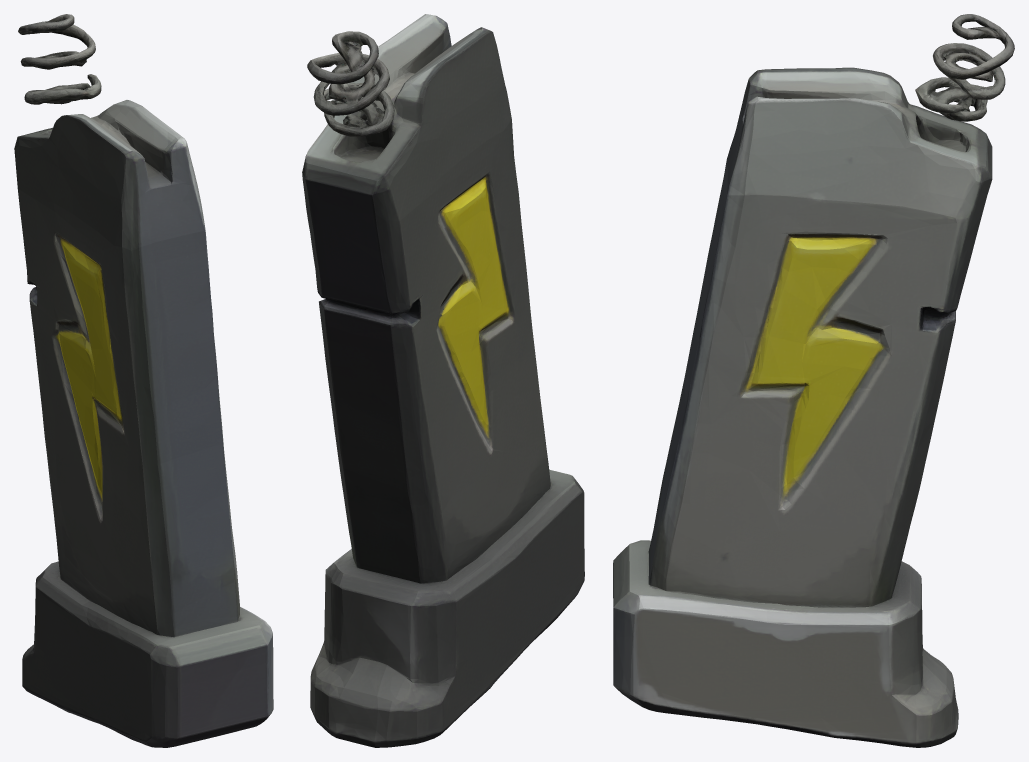
Rendered from rapid_fire.glb.
3 views of the same model, side by side, from view 1: azimuth 30°, elevation 25°; view 2: azimuth 150°, elevation 25°; view 3: azimuth 270°, elevation 25° (orthographic). The views are drawn at different scales.
Visible parts, largest first — view 1: world; view 2: world; view 3: world.
Part boxes in pixels (x1,y1,x2,y2): world: (14, 14, 273, 747); world: (302, 14, 584, 747); world: (613, 14, 1014, 747).
Bounding box in the file's own units: 0.1939 × 0.9964 × 0.517.
Materials: 1 (1 with a texture image).
